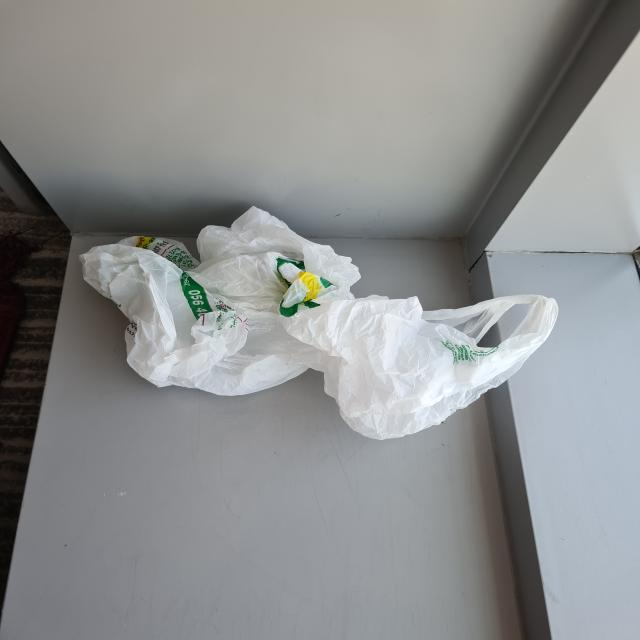plastic: (77, 208, 552, 436)
